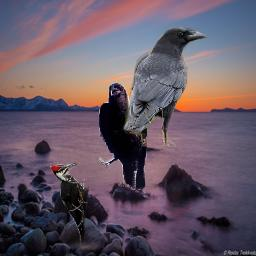Crow: (122, 27, 207, 147), (98, 82, 148, 193)
Woodpecker: (50, 162, 89, 247)
